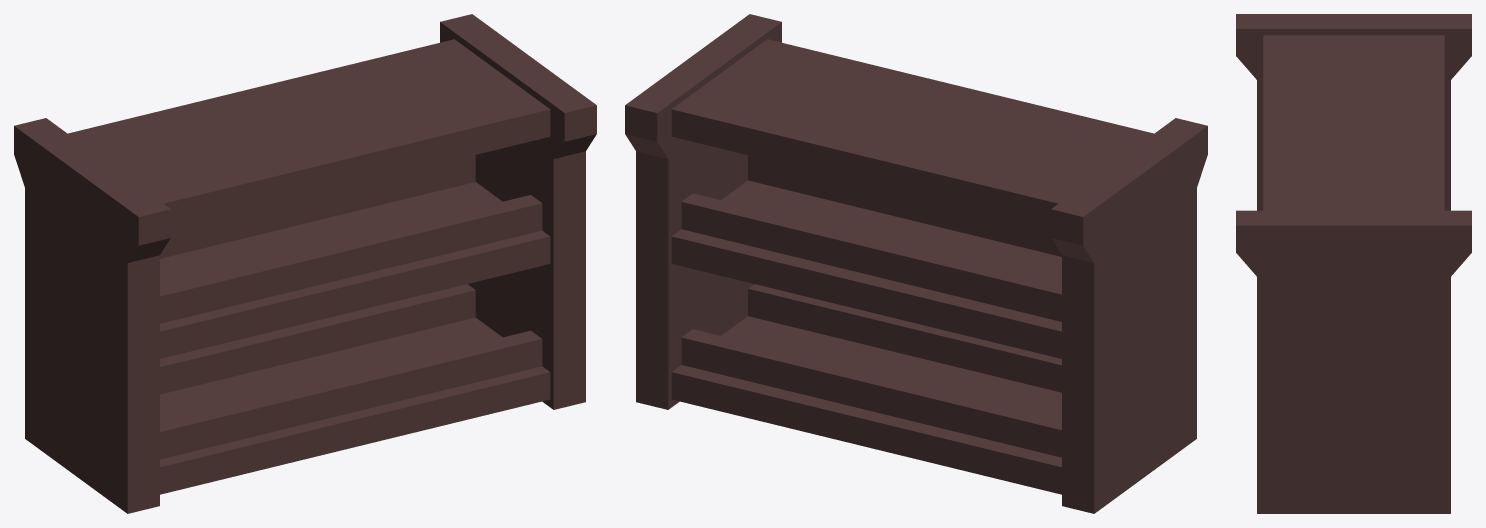
File: LightRoseWoodDecorationSmallGlassholder1.fbx
3 views of the same model, side by side, from view 1: azimuth 30°, elevation 25°; view 2: azimuth 150°, elevation 25°; view 3: azimuth 270°, elevation 25° (orthographic). The views are drawn at different scales.
Parts seen in each view (by area): view 1: LightRoseWoodDecorationSmallGlassholder1; view 2: LightRoseWoodDecorationSmallGlassholder1; view 3: LightRoseWoodDecorationSmallGlassholder1.
Boxes of the visible parts, x1,y1,x2,y2 form: LightRoseWoodDecorationSmallGlassholder1: [14, 14, 596, 513]; LightRoseWoodDecorationSmallGlassholder1: [625, 14, 1207, 513]; LightRoseWoodDecorationSmallGlassholder1: [1236, 14, 1471, 513].
Bounding box in the file's own units: 182 × 115 × 85.57.
